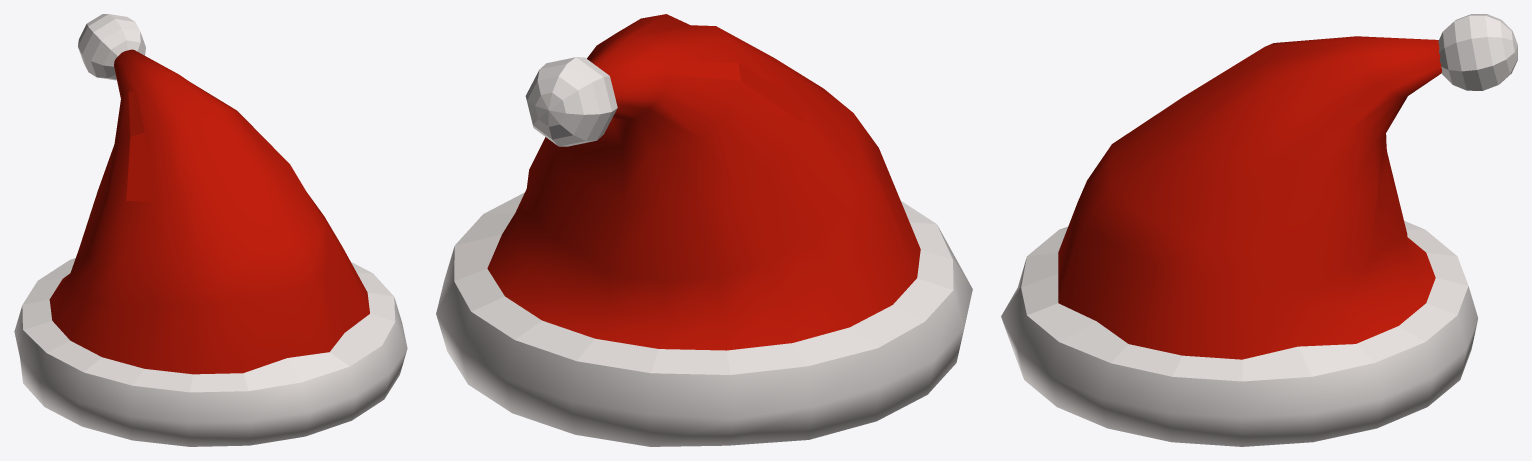
3 renders of one model, left to right at view 1: azimuth 30°, elevation 25°; view 2: azimuth 150°, elevation 25°; view 3: azimuth 270°, elevation 25°, orthographic. The views are drawn at different scales.
Parts seen in each view (by area): view 1: Hat; view 2: Hat; view 3: Hat.
Boxes of the visible parts, left/top/right/bottom form: Hat: left=14, top=14, right=407, bottom=446; Hat: left=436, top=14, right=972, bottom=446; Hat: left=1001, top=14, right=1517, bottom=446.
Bounding box in the file's own units: 3.11 × 2.45 × 3.4.
